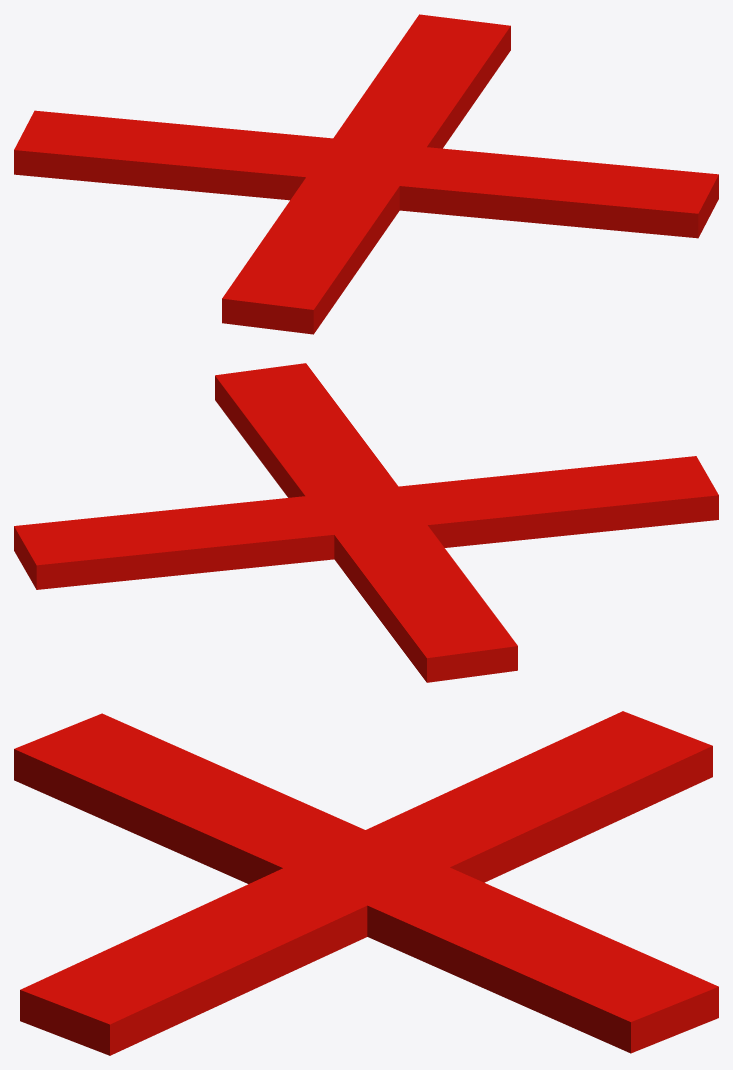
File: Put_No.fbx
3 renders of one model, top to bottom at view 1: azimuth 30°, elevation 25°; view 2: azimuth 150°, elevation 25°; view 3: azimuth 270°, elevation 25°, orthographic. The views are drawn at different scales.
Parts seen in each view (by area): view 1: Cube, Cube.001; view 2: Cube.001, Cube; view 3: Cube.001, Cube.
Part boxes in pixels (x1,y1,x2,y2): Cube: [14, 110, 718, 238]; Cube.001: [222, 14, 510, 334]; Cube.001: [14, 456, 718, 589]; Cube: [215, 363, 517, 682]; Cube.001: [14, 713, 718, 1053]; Cube: [20, 711, 712, 1055].
Size of the model in its own units: 75.51 by 3.52 by 71.76.
